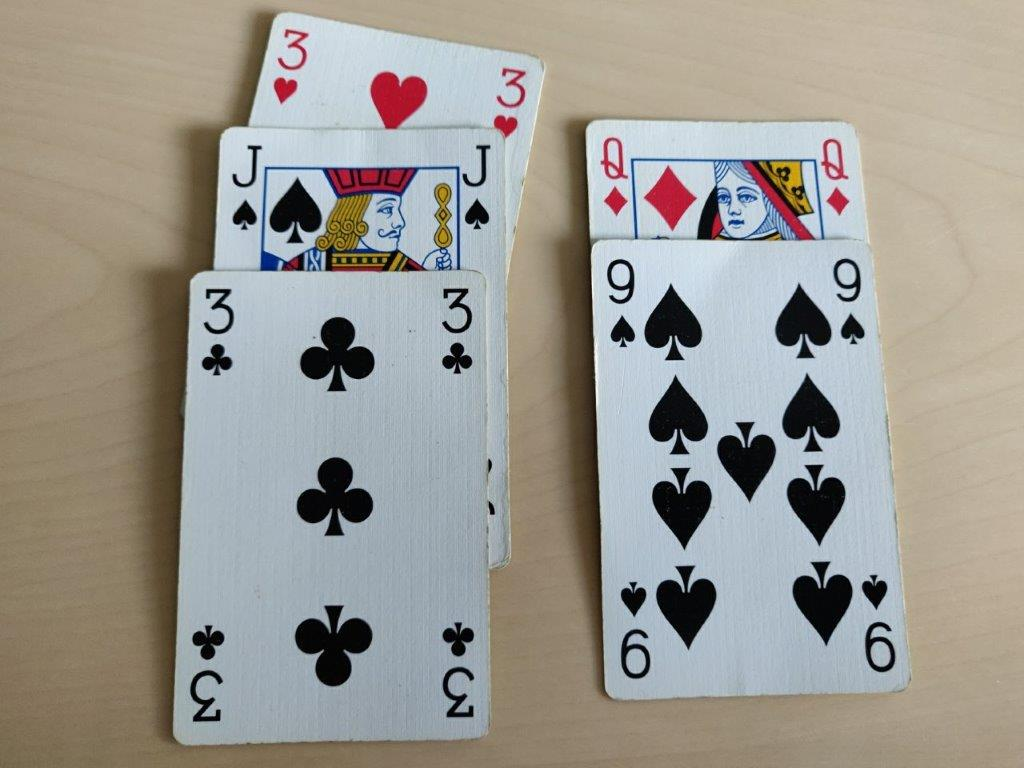3C: (196, 280, 240, 381), (436, 279, 480, 380)
3H: (271, 22, 311, 107), (490, 60, 530, 145)
9S: (829, 248, 873, 348), (602, 255, 641, 350)
JS: (223, 140, 264, 231), (455, 141, 496, 232)
QD: (816, 133, 855, 220), (595, 134, 632, 218)
